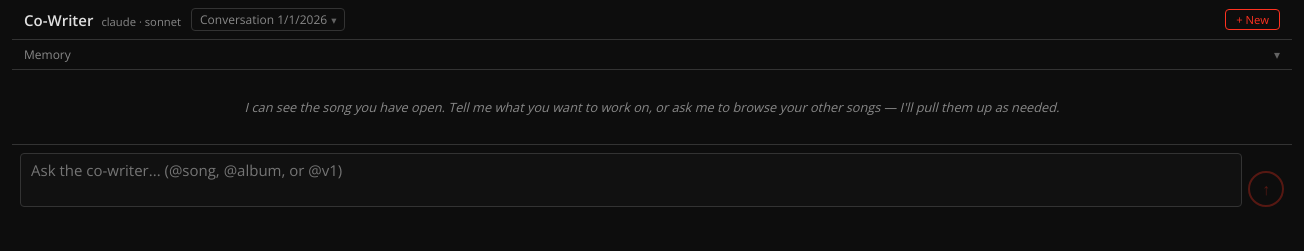
CoWriterPanel failed turns › names a 503 below the user message, ends typing, and retries the retained message
The image size is (1304, 251).
In the text box with class "chat-input": (631, 180) [20,153,1242,207], type "write a chorus"
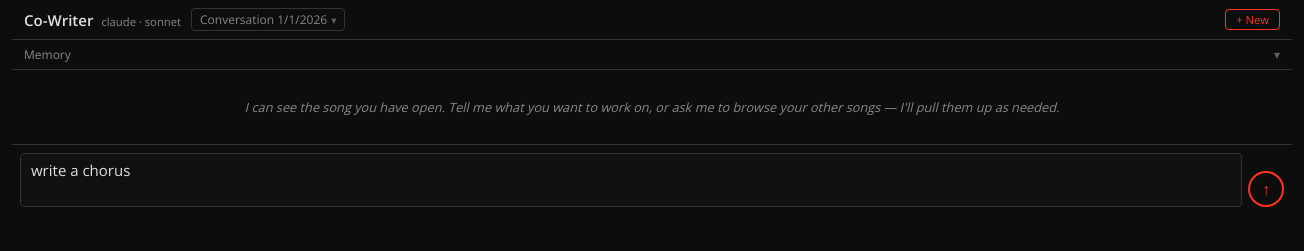
Click the button with class "send-btn": (1266, 189) [1248,171,1284,207]
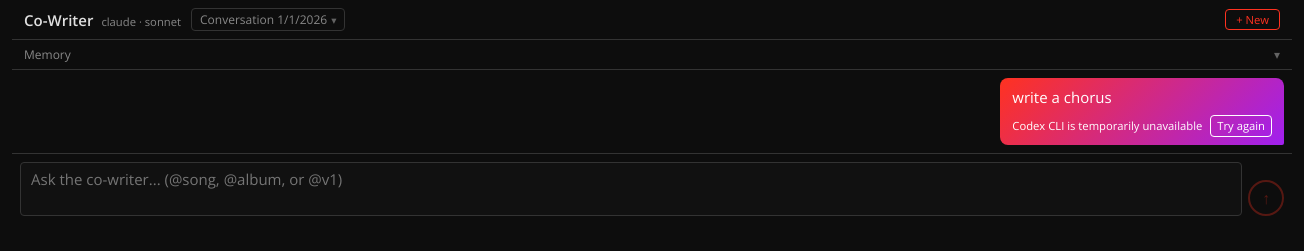
Result: the message with class "turn-error" shows "Codex CLI is temporarily unavailable" at [1012,118,1202,132]
Result: the number of elements with class "user" is 1 at [1000,78,1284,145]
Result: the button with class "retry-turn" reads "Try again"
Click the button with class "retry-turn": (1241, 126) [1210,114,1272,137]
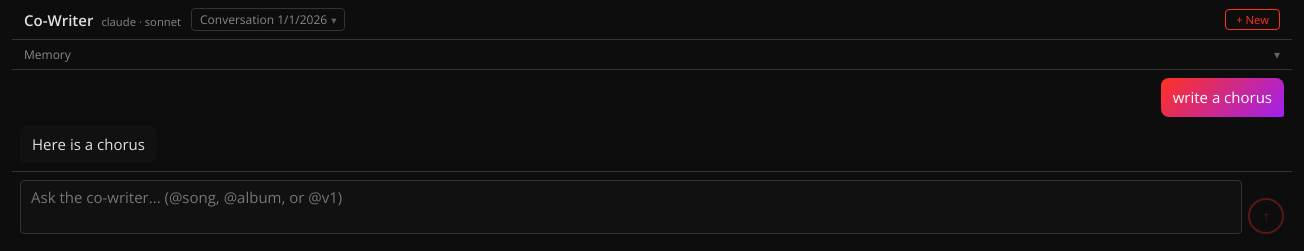
Result: the message with class "turn-error" is gone
Result: the text "Here is a chorus" is shown at [32,132,145,155]
